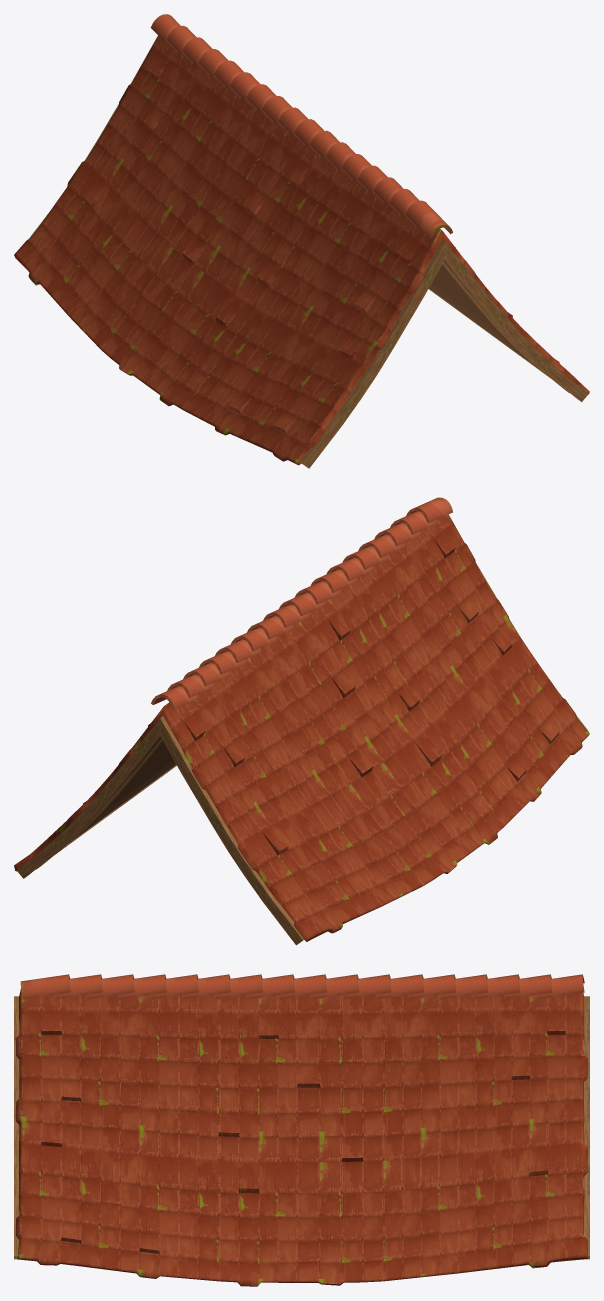
File: Roof_FlatTiles_6x12.gltf
3 renders of one model, top to bottom at view 1: azimuth 30°, elevation 25°; view 2: azimuth 150°, elevation 25°; view 3: azimuth 270°, elevation 25°, orthographic.
Visible parts, largest first — view 1: Roof_FlatTiles_6x12; view 2: Roof_FlatTiles_6x12; view 3: Roof_FlatTiles_6x12.
Boxes of the visible parts, x1,y1,x2,y2 form: Roof_FlatTiles_6x12: (14,14,589,468); Roof_FlatTiles_6x12: (14,497,589,945); Roof_FlatTiles_6x12: (14,974,589,1286).
Bounding box in the file's own units: 9.13 × 6.02 × 13.66.
Materials: 3 (3 with a texture image).
